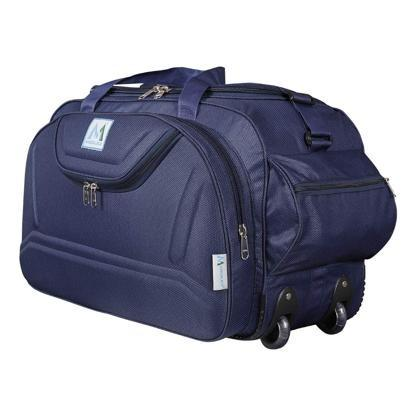not trash: (17, 64, 400, 348)
